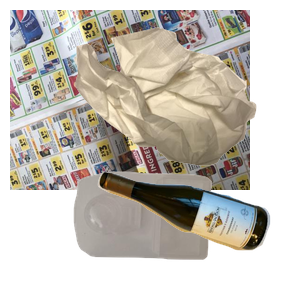glass: (95, 168, 300, 300)
paper: (10, 10, 250, 190)
plastic: (71, 169, 275, 300)
trash: (73, 25, 300, 183)
